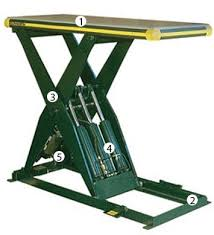Scissor Lift: (5, 13, 214, 231)
